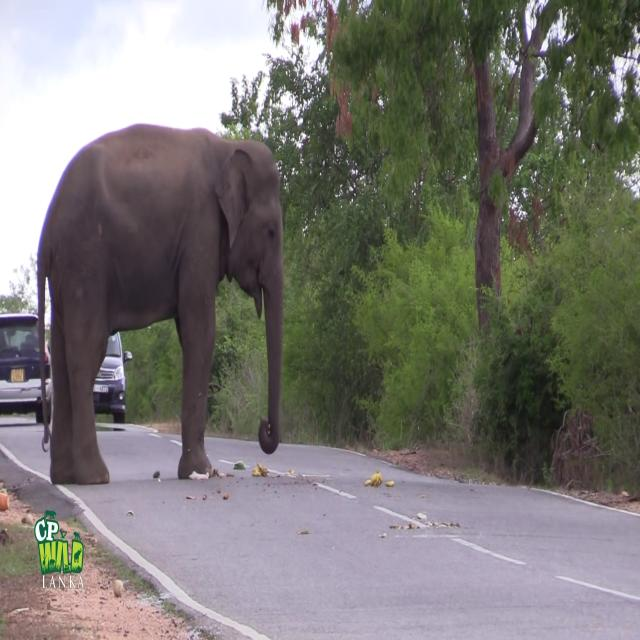Elephant: (36, 122, 284, 484)
